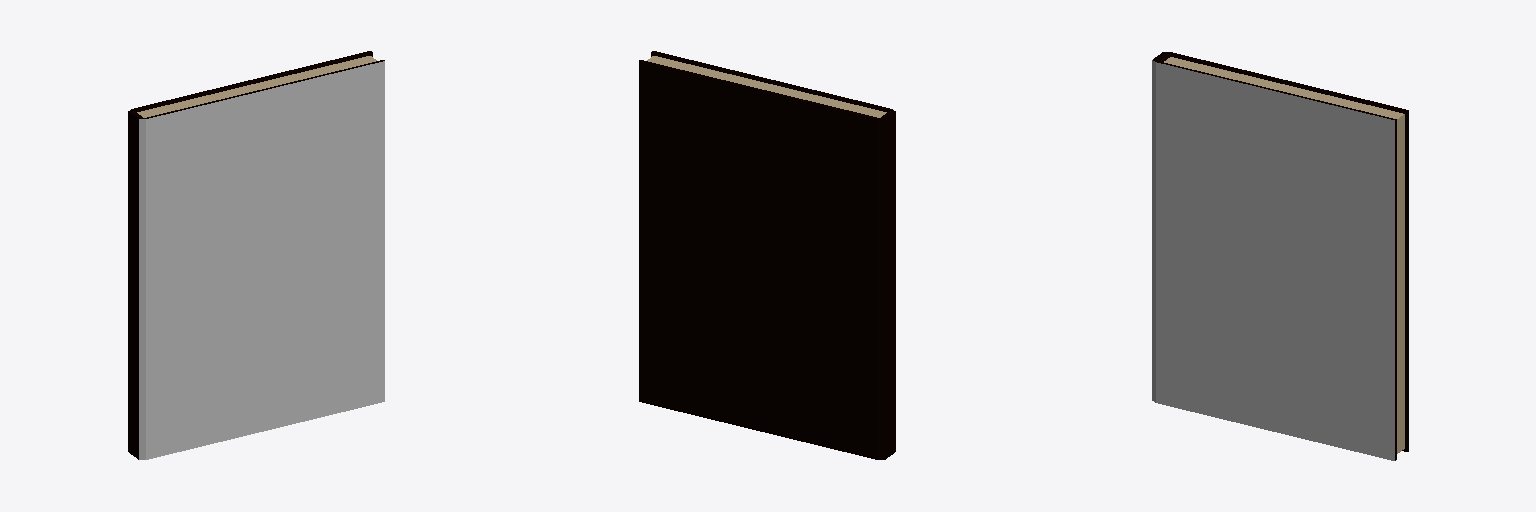
Rendered from book.obj.
3 renders of one model, left to right at view 1: azimuth 30°, elevation 25°; view 2: azimuth 150°, elevation 25°; view 3: azimuth 330°, elevation 25°, orthographic.
Parts seen in each view (by area): view 1: book; view 2: book; view 3: book.
Part boxes in pixels (x1,y1,x2,y2): book: (128,51,384,459); book: (639,51,895,459); book: (1152,52,1408,460).
Size of the model in its own units: 7.5 by 10 by 0.75.